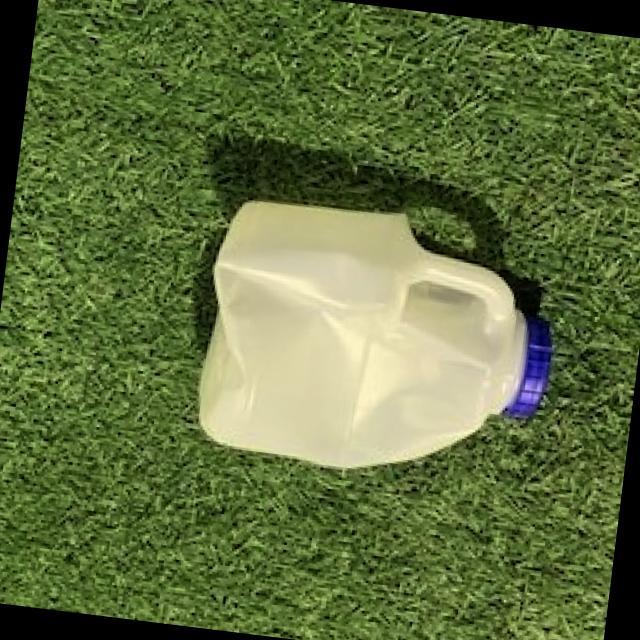HDPE Plastic: (193, 196, 555, 470)
